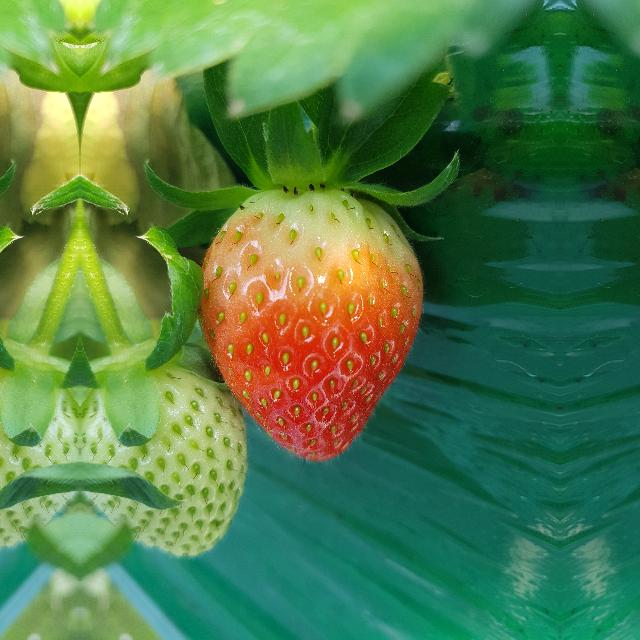Health_25: (80, 354, 246, 556), (0, 353, 80, 556)
Health_75: (197, 188, 425, 462)
